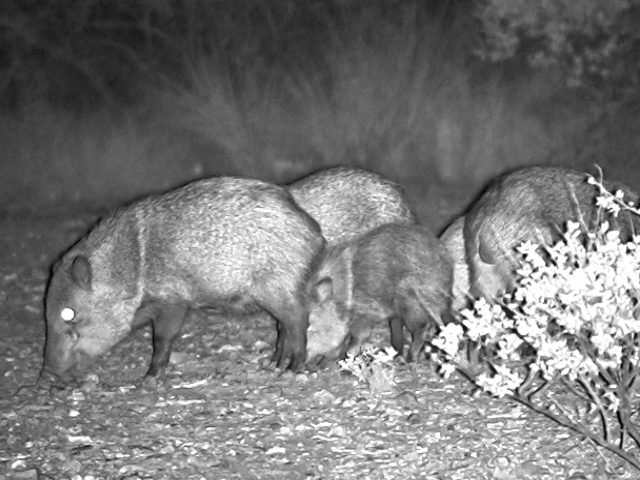javelina: (16, 163, 331, 402), (421, 156, 640, 384), (285, 226, 471, 366)
